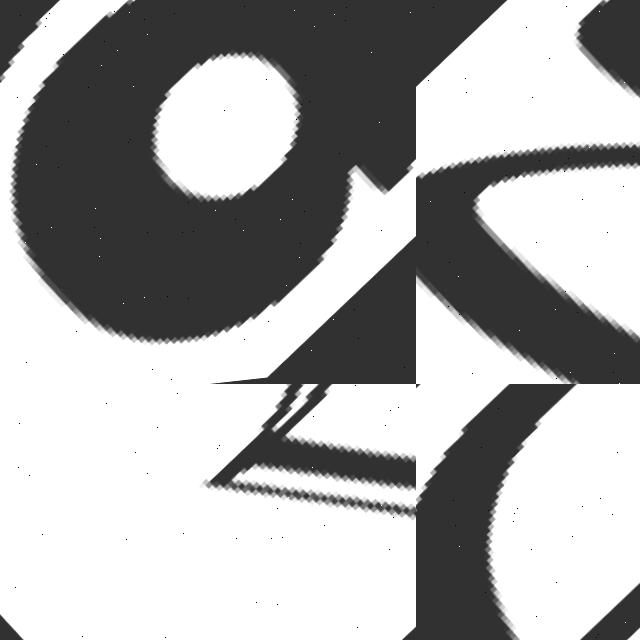5: (0, 384, 416, 640)
A: (416, 0, 640, 384)
E: (416, 384, 585, 640)
G: (0, 0, 416, 384)
